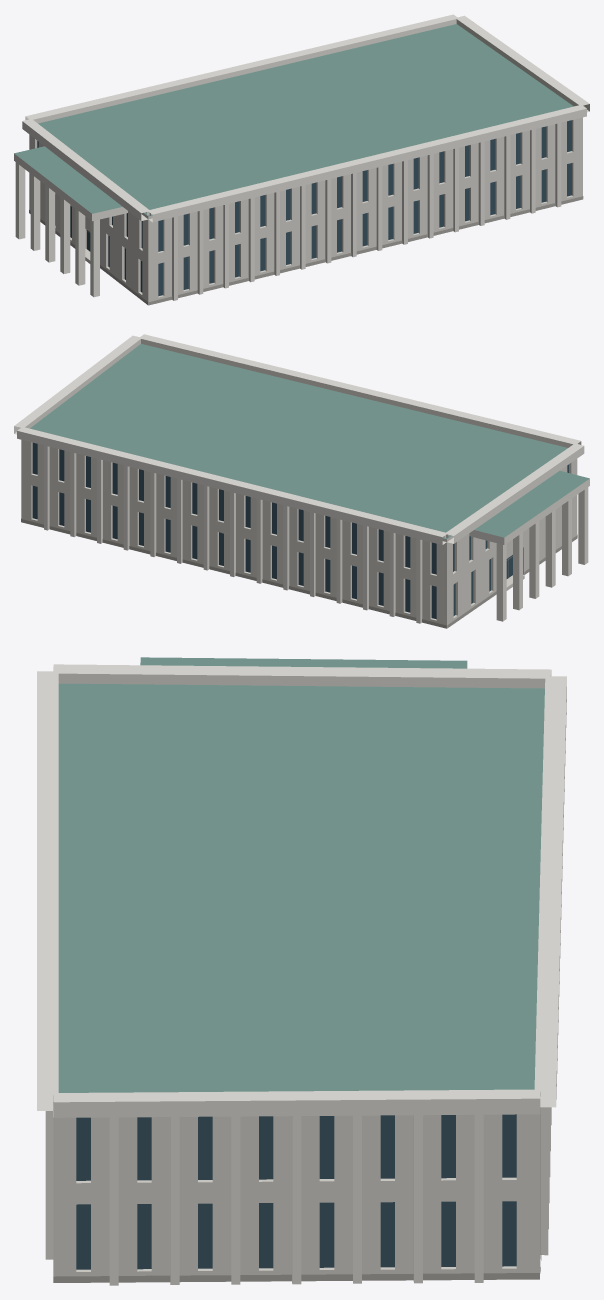
The picture shows the model from 3 angles, top to bottom: view 1: azimuth 30°, elevation 25°; view 2: azimuth 150°, elevation 25°; view 3: azimuth 270°, elevation 25°; orthographic projection. The views are drawn at different scales.
Visible parts, largest first — view 1: sehyang__roof, sehyang__wall, sehyang__trim, sehyang__glass, sehyang__column, sehyang__base; view 2: sehyang__roof, sehyang__wall, sehyang__trim, sehyang__glass, sehyang__column, sehyang__base; view 3: sehyang__roof, sehyang__trim, sehyang__wall, sehyang__glass, sehyang__base.
Boxes of the visible parts, box(x1,y1,x2,y2) form: sehyang__roof: box(14, 24, 573, 305); sehyang__wall: box(29, 117, 582, 304); sehyang__trim: box(14, 14, 589, 300); sehyang__glass: box(37, 120, 571, 296); sehyang__column: box(15, 162, 99, 297); sehyang__base: box(29, 196, 583, 305); sehyang__roof: box(30, 344, 589, 539); sehyang__wall: box(21, 440, 577, 628); sehyang__trim: box(14, 334, 589, 623); sehyang__glass: box(32, 442, 568, 619); sehyang__column: box(496, 487, 588, 621); sehyang__base: box(21, 518, 577, 628); sehyang__roof: box(53, 657, 544, 1282); sehyang__trim: box(37, 661, 566, 1285); sehyang__wall: box(53, 1094, 540, 1276); sehyang__glass: box(76, 1114, 516, 1269); sehyang__base: box(53, 1254, 541, 1282).
Size of the model in its own units: 60.61 by 11.8 by 29.23.
